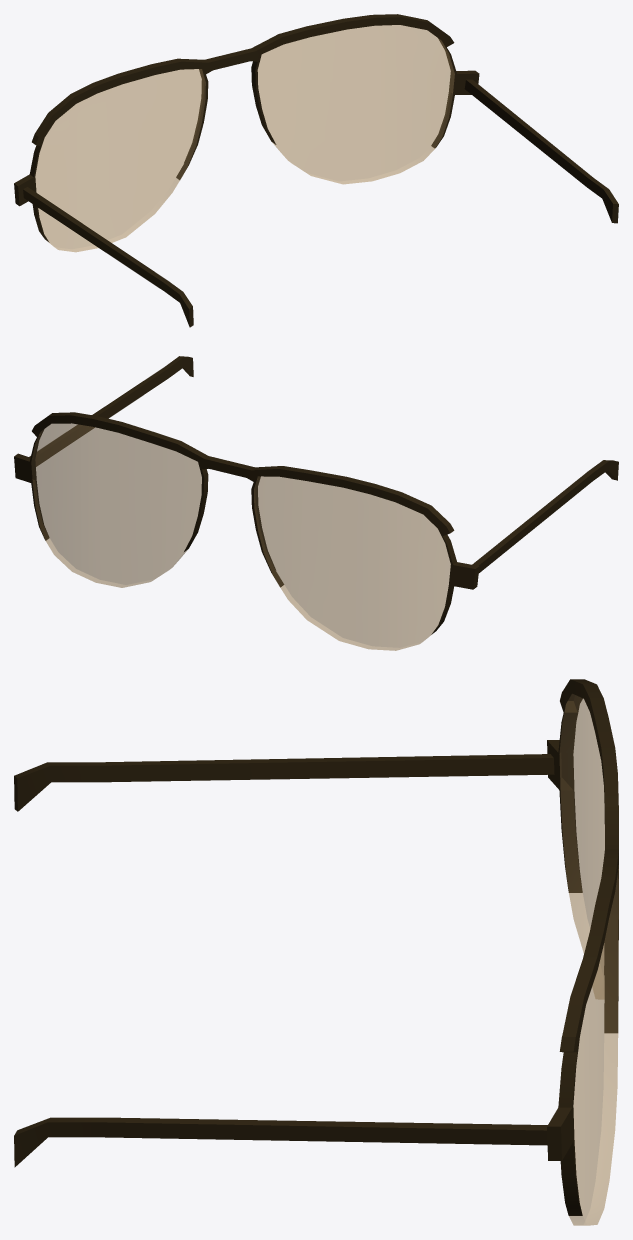
Rendered from glasses.fbx.
3 views of the same model, one above another, from view 1: azimuth 30°, elevation 25°; view 2: azimuth 150°, elevation 25°; view 3: azimuth 270°, elevation 25° (orthographic). The views are drawn at different scales.
Visible parts, largest first — view 1: glasses; view 2: glasses; view 3: glasses.
Part boxes in pixels (bbox=[...]): glasses: bbox=[14, 14, 618, 327]; glasses: bbox=[14, 356, 618, 650]; glasses: bbox=[14, 679, 618, 1225].
Bounding box in the file's own units: 16.95 × 5.78 × 11.21.
